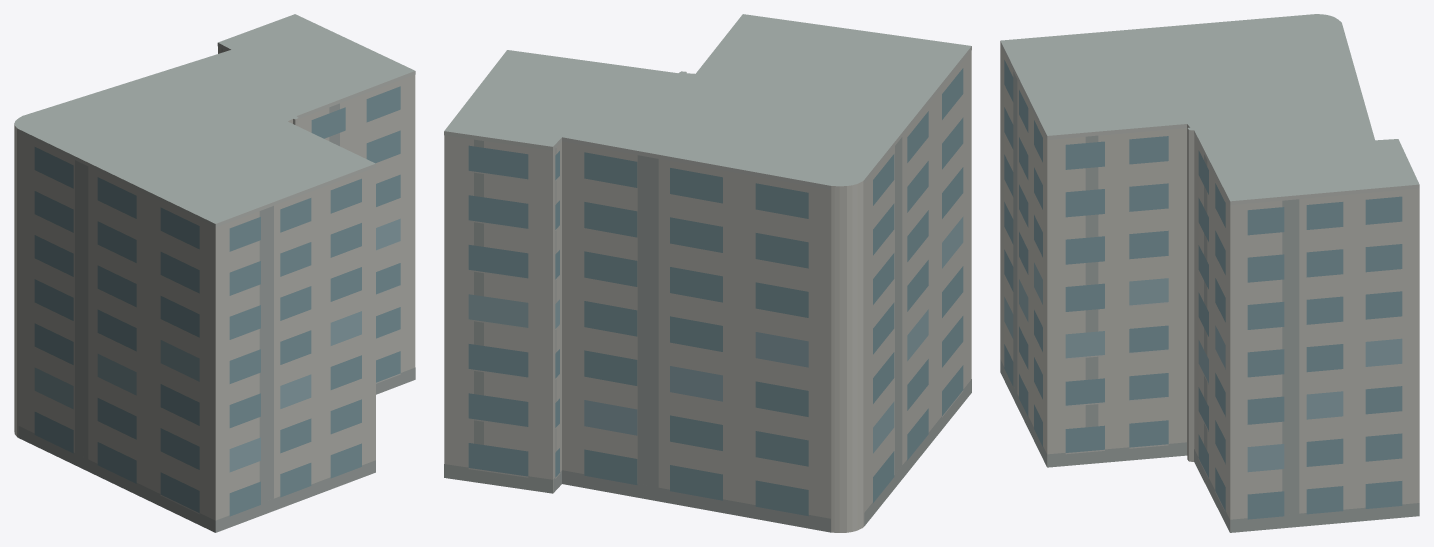
File: survey-upis-33003178.glb
The picture shows the model from 3 angles, left to right: view 1: azimuth 30°, elevation 25°; view 2: azimuth 150°, elevation 25°; view 3: azimuth 270°, elevation 25°; orthographic projection. The views are drawn at different scales.
Visible parts, largest first — view 1: survey-upis-33003178.tmp; view 2: survey-upis-33003178.tmp; view 3: survey-upis-33003178.tmp.
Part boxes in pixels (box(x1,y1,x2,y2)): survey-upis-33003178.tmp: box(14, 14, 415, 532); survey-upis-33003178.tmp: box(444, 14, 971, 532); survey-upis-33003178.tmp: box(1000, 14, 1419, 532).
Bounding box in the file's own units: 24.35 × 20.1 × 23.04.
